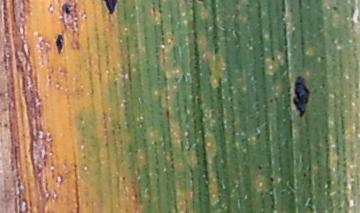tarspot: (292, 75, 310, 119), (54, 32, 65, 55), (102, 1, 120, 15), (63, 5, 72, 17), (268, 175, 276, 184), (301, 170, 308, 178), (257, 163, 263, 172), (267, 96, 273, 104), (331, 5, 338, 11)
